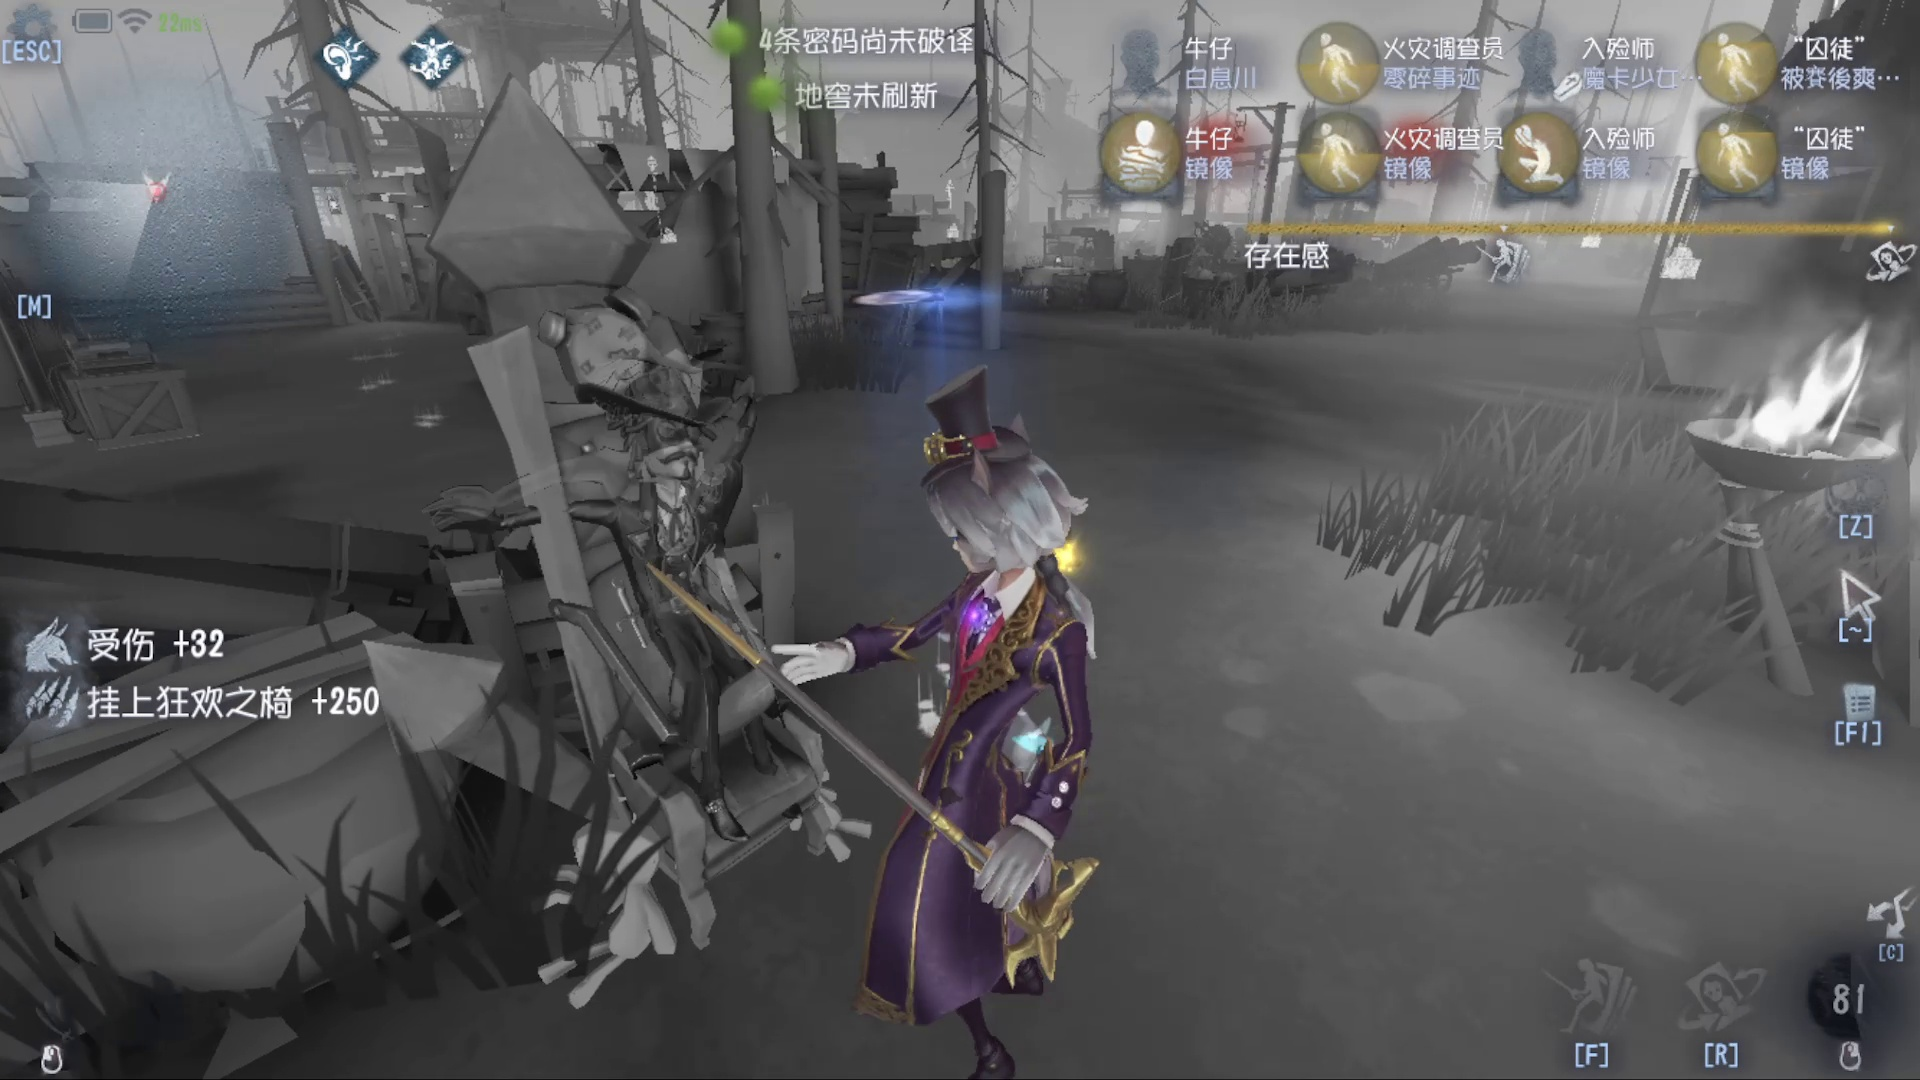求生者: (593, 363, 781, 811)
狂欢之椅: (409, 142, 885, 949)
